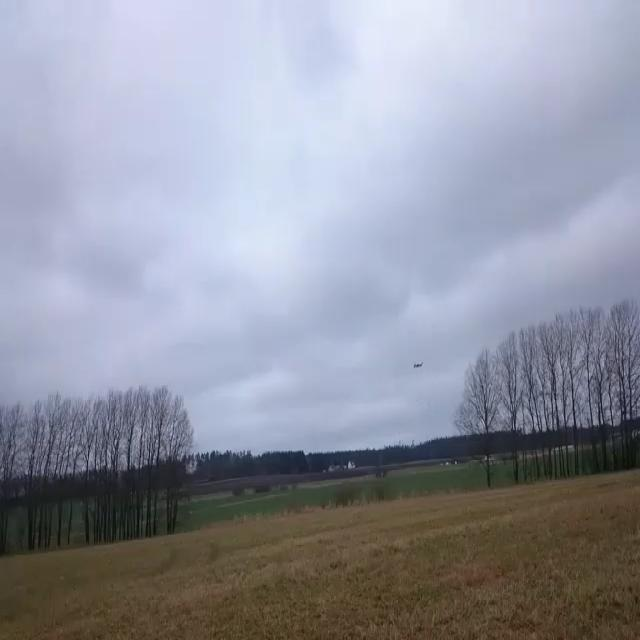Drone: (410, 356, 428, 374)
